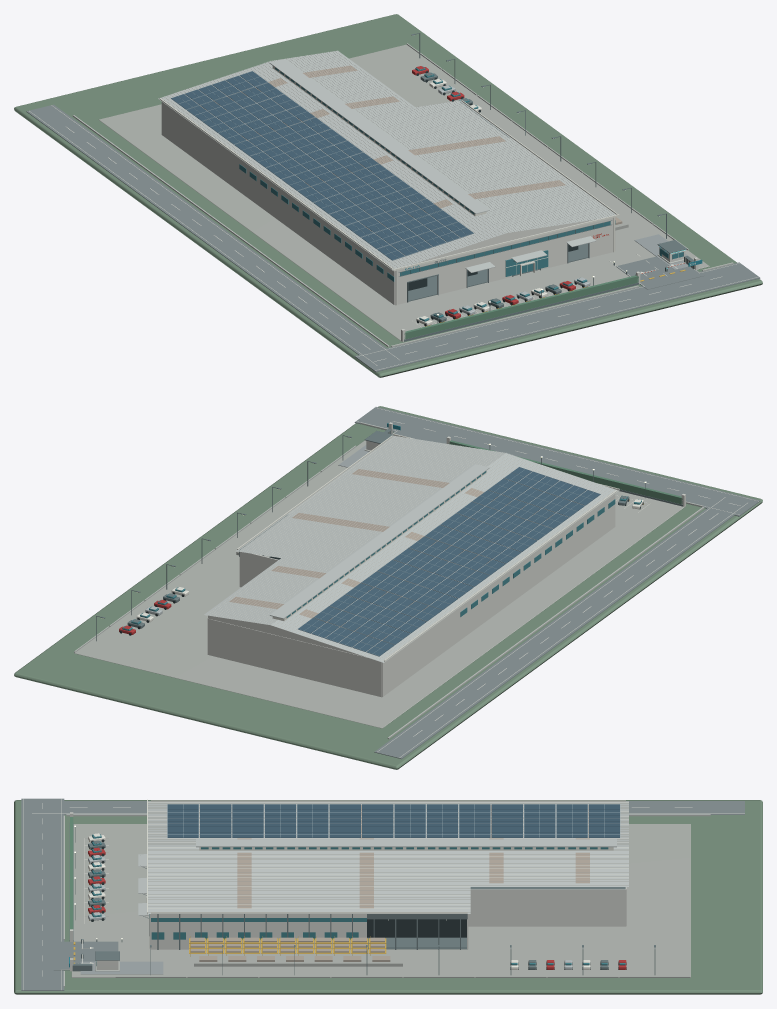
The model's file is yilite-factory.glb.
3 renders of one model, top to bottom at view 1: azimuth 30°, elevation 25°; view 2: azimuth 150°, elevation 25°; view 3: azimuth 270°, elevation 25°, orthographic. The views are drawn at different scales.
Parts seen in each view (by area): view 1: 厂区地形基座, 厂区硬化院坪, 主屋面.001, 道路_左侧, 主屋面, 道路_正面, 左侧主墙, 后段右屋面, 通风带顶盖, 正面绿篱, 入口车道, 车间地坪 (+12 smaller); view 2: 厂区地形基座, 厂区硬化院坪, 主屋面.001, 道路_左侧, 主屋面, 左侧主墙, 道路_正面, 后墙, 后段右屋面, 通风带顶盖, 正面绿篱, 厂区左侧路沿 (+4 smaller); view 3: 厂区硬化院坪, 厂区地形基座, 主屋面.001, 道路_正面, 后段右墙, 后段右屋面, 主屋面, 右侧前段墙, 通风带顶盖, 道路_左侧, 侧面装卸口阴影, 侧面装卸平台 (+34 smaller).
Part boxes in pixels (x1,y1,x2,y2): 厂区地形基座: (14, 14, 762, 377); 厂区硬化院坪: (99, 44, 709, 341); 主屋面.001: (361, 100, 615, 233); 道路_左侧: (26, 104, 401, 366); 主屋面: (158, 61, 505, 270); 道路_正面: (354, 262, 760, 372); 左侧主墙: (161, 99, 394, 304); 后段右屋面: (271, 50, 414, 115); 通风带顶盖: (269, 59, 489, 213); 正面绿篱: (404, 275, 638, 339); 入口车道: (616, 256, 703, 289); 车间地坪: (408, 243, 588, 301); 厂区地形基座: (14, 406, 762, 769); 厂区硬化院坪: (74, 440, 684, 728); 主屋面.001: (235, 435, 505, 566); 道路_左侧: (374, 497, 749, 759); 主屋面: (271, 453, 618, 662); 左侧主墙: (382, 491, 615, 696); 道路_正面: (354, 407, 760, 516); 后墙: (207, 618, 381, 697); 后段右屋面: (204, 558, 334, 625); 通风带顶盖: (269, 464, 489, 618); 正面绿篱: (448, 440, 682, 504); 厂区左侧路沿: (387, 507, 704, 739); 厂区硬化院坪: (71, 824, 690, 977); 厂区地形基座: (14, 800, 762, 994); 主屋面.001: (148, 847, 470, 913); 道路_正面: (21, 798, 64, 990); 后段右墙: (468, 889, 625, 926); 后段右屋面: (470, 847, 628, 886); 主屋面: (148, 801, 628, 846); 右侧前段墙: (151, 914, 366, 949); 通风带顶盖: (196, 839, 616, 847); 道路_左侧: (32, 801, 744, 814); 侧面装卸口阴影: (367, 919, 466, 937); 侧面装卸平台: (194, 956, 402, 966).
Size of the model in its own units: 126 by 17.35 by 208.
